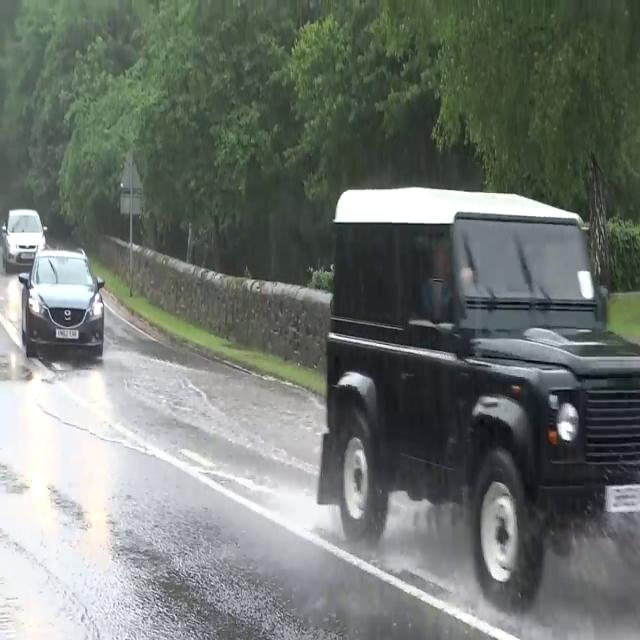license-plate-annotation: (605, 488, 640, 511)
